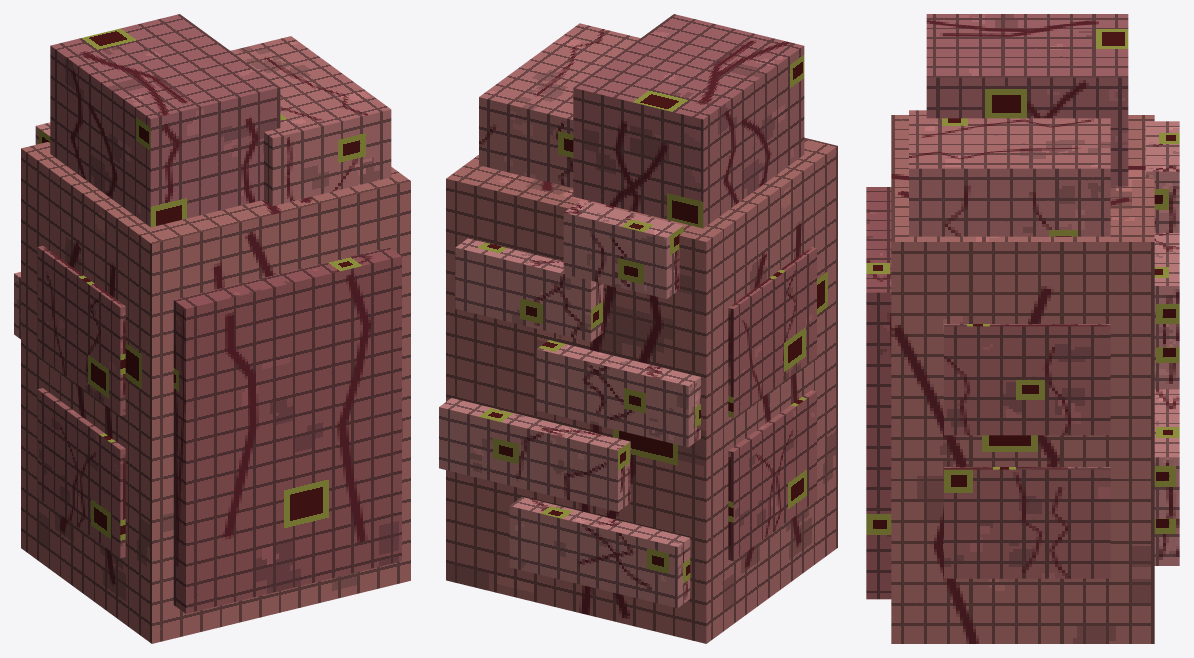
File: mon_zombie_living_wall.glb
3 renders of one model, left to right at view 1: azimuth 30°, elevation 25°; view 2: azimuth 150°, elevation 25°; view 3: azimuth 270°, elevation 25°, orthographic.
Parts seen in each view (by area): view 1: block_back, block_mass, block_crown, block_crown2, block_side-10, block_side-11; view 2: block_mass, block_crown, block_coil1, block_coil0, block_crown2, block_coil2, block_coil3, block_side-11, block_side-10, block_coil4; view 3: block_mass, block_crown2, block_crown, block_side10, block_side11, block_back, block_coil4, block_coil1, block_coil3, block_coil0, block_coil2.
Boxes of the visible parts, x1,y1,x2,y2 form: block_back: (173,247,401,613); block_mass: (21,142,410,643); block_crown: (50,14,280,227); block_crown2: (230,36,391,205); block_side-10: (37,388,125,558); block_side-11: (37,245,125,415); block_mass: (446,137,837,643); block_crown: (573,14,804,228); block_coil1: (439,398,630,511); block_coil0: (509,497,690,608); block_crown2: (479,23,640,187); block_coil2: (536,340,700,447); block_coil3: (455,238,603,341); block_side-11: (728,247,816,417); block_side-10: (728,390,816,560); block_coil4: (563,200,683,298); block_mass: (891,115,1154,643); block_crown2: (909,110,1110,236); block_crown: (926,14,1128,186); block_side10: (944,467,1110,578); block_side11: (944,324,1110,435); block_back: (866,187,891,599); block_coil4: (1145,121,1179,232); block_coil1: (1154,389,1179,518); block_coil3: (1154,233,1179,347); block_coil0: (1154,518,1179,565); block_coil2: (1154,347,1179,389).
Bounding box in the file's own units: 1 × 1.8 × 1.
Materials: 1 (1 with a texture image).
